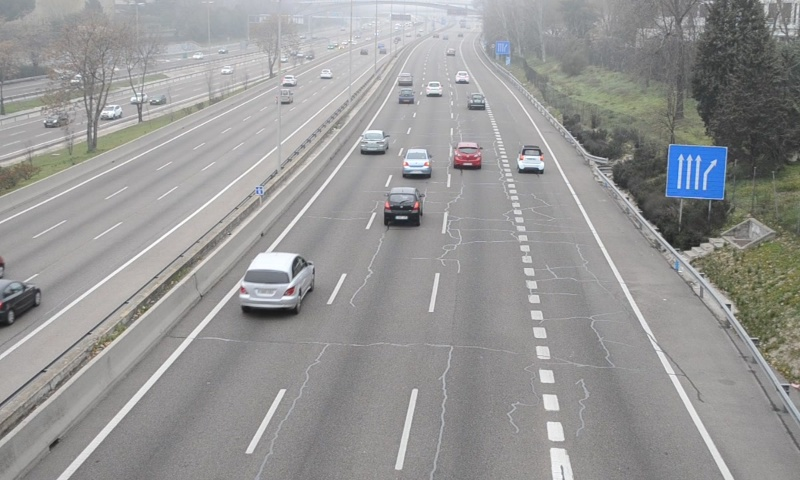car: (238, 252, 314, 311), (384, 186, 422, 226), (402, 148, 432, 180), (517, 144, 545, 174), (454, 142, 483, 170), (360, 129, 389, 155), (467, 92, 486, 110), (397, 88, 416, 105), (425, 80, 443, 97), (397, 72, 414, 86)
